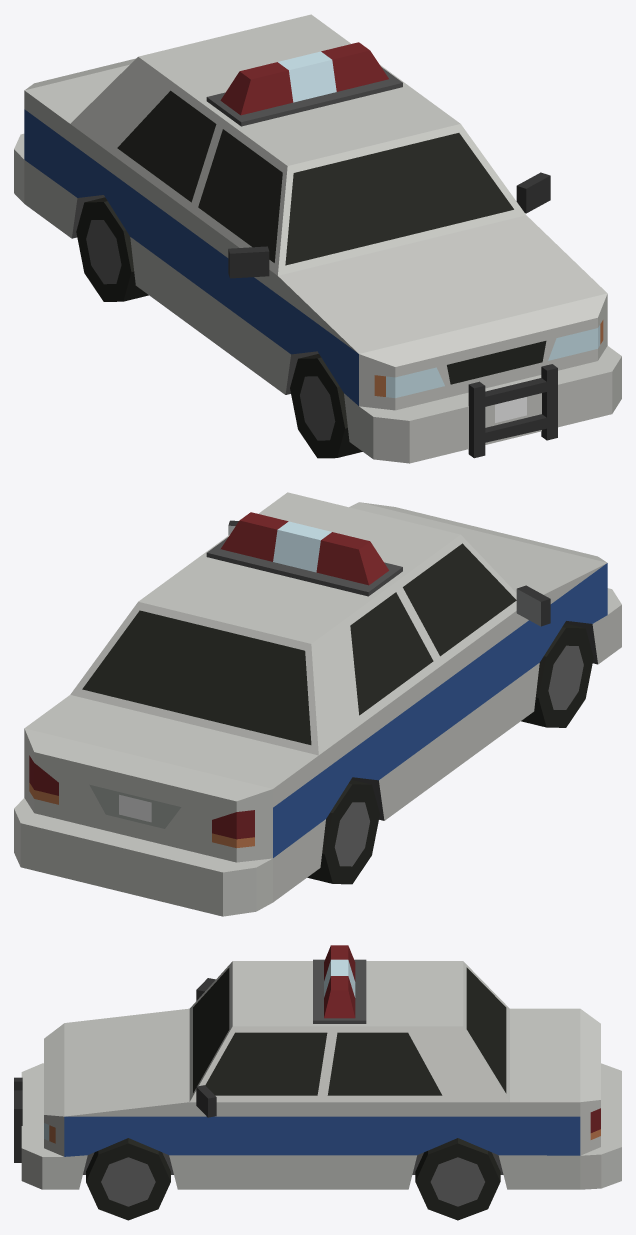
The model's file is Veh_Police_Car.obj.
3 renders of one model, top to bottom at view 1: azimuth 30°, elevation 25°; view 2: azimuth 150°, elevation 25°; view 3: azimuth 270°, elevation 25°, orthographic. The views are drawn at different scales.
Bounding box in the file's own units: 1.22 × 0.9735 × 2.61.
